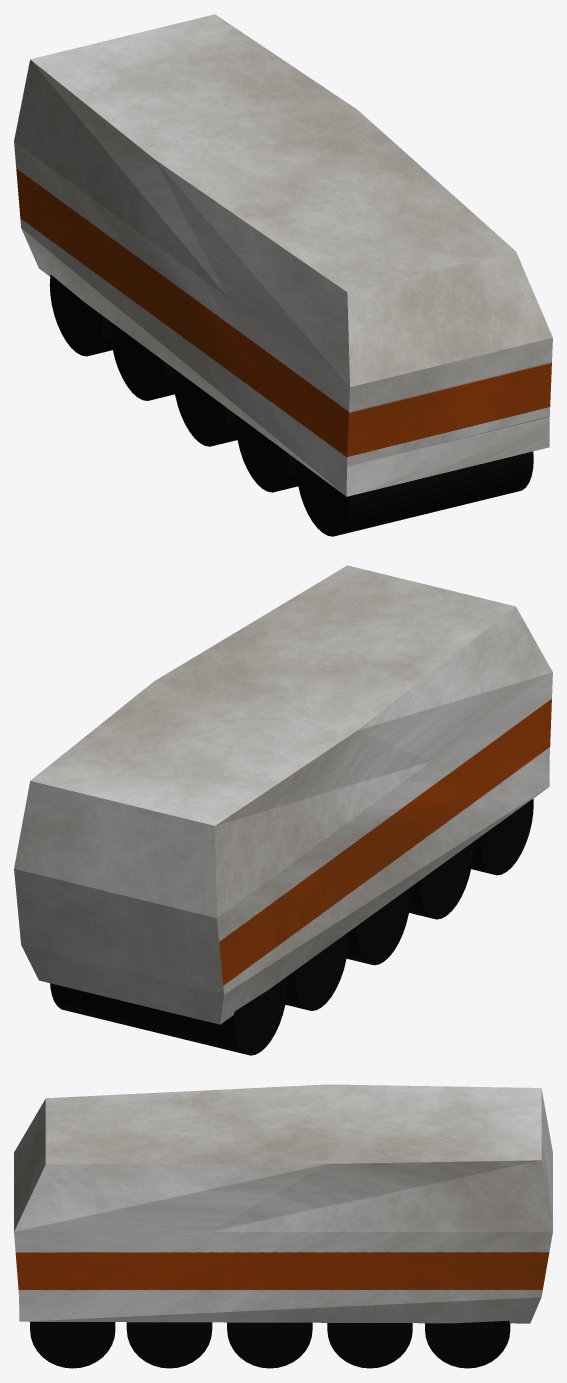
The model's file is train_carriage.dae.
3 views of the same model, one above another, from view 1: azimuth 30°, elevation 25°; view 2: azimuth 150°, elevation 25°; view 3: azimuth 270°, elevation 25° (orthographic). The views are drawn at different scales.
Parts seen in each view (by area): view 1: Engine, Wheel 1, Wheel 5, Wheel 4, Wheel 3, Wheel 2; view 2: Engine, Wheel 5, Wheel 3, Wheel 4, Wheel 2, Wheel 1; view 3: Engine, Wheel 2, Wheel 1, Wheel 3, Wheel 5, Wheel 4.
Boxes of the visible parts, x1,y1,x2,y2 form: Engine: (14,14,552,496); Wheel 1: (296,451,533,536); Wheel 5: (49,274,112,356); Wheel 4: (110,322,174,400); Wheel 3: (173,368,237,446); Wheel 2: (235,415,297,492); Engine: (14,565,552,1024); Wheel 5: (50,977,287,1055); Wheel 3: (346,887,410,965); Wheel 4: (285,932,348,1010); Wheel 2: (409,842,473,919); Wheel 1: (471,799,533,875); Engine: (14,1084,552,1323); Wheel 2: (126,1322,212,1368); Wheel 1: (30,1322,115,1368); Wheel 3: (227,1322,312,1368); Wheel 5: (425,1320,510,1368); Wheel 4: (327,1323,412,1368).
Bounding box in the file's own units: 4.4 × 12.62 × 5.38.
2 materials, 2 textured.
